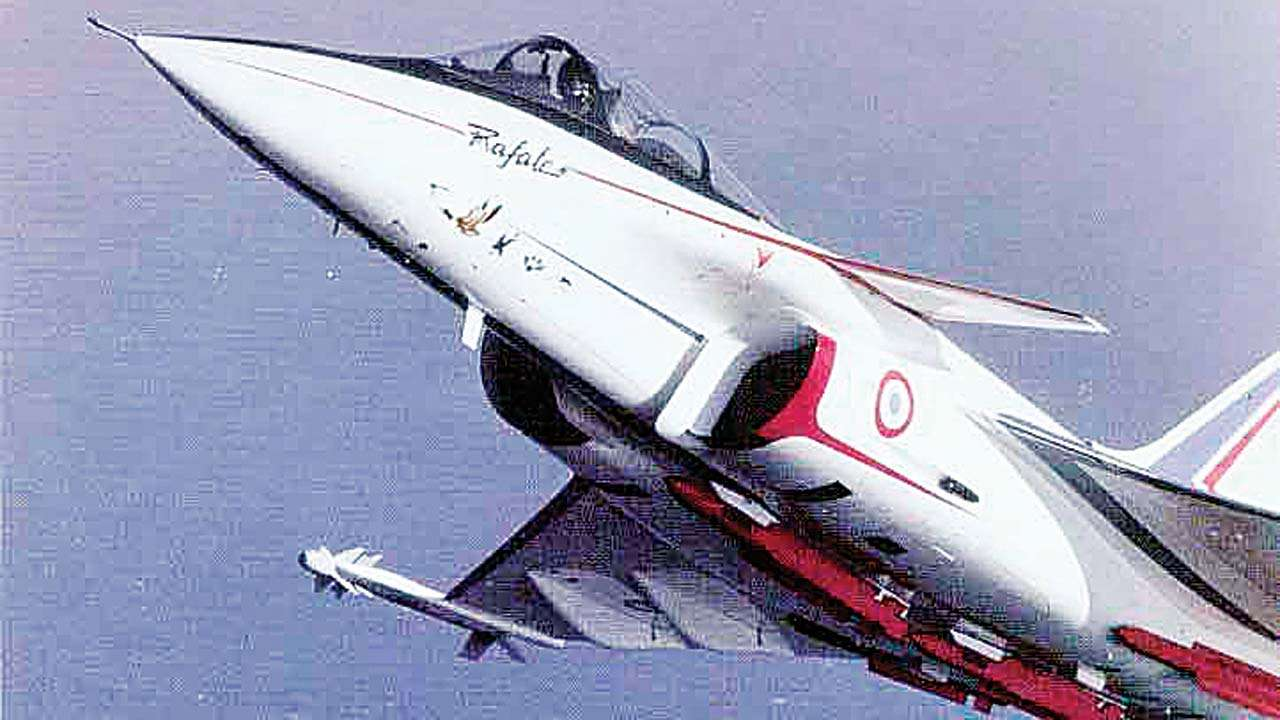airplane: (86, 16, 1280, 720)
